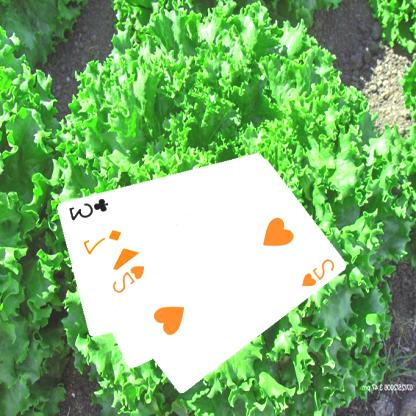2H: (110, 262, 148, 296), (299, 256, 338, 288)
3C: (67, 195, 111, 222)
7D: (82, 226, 124, 256)
